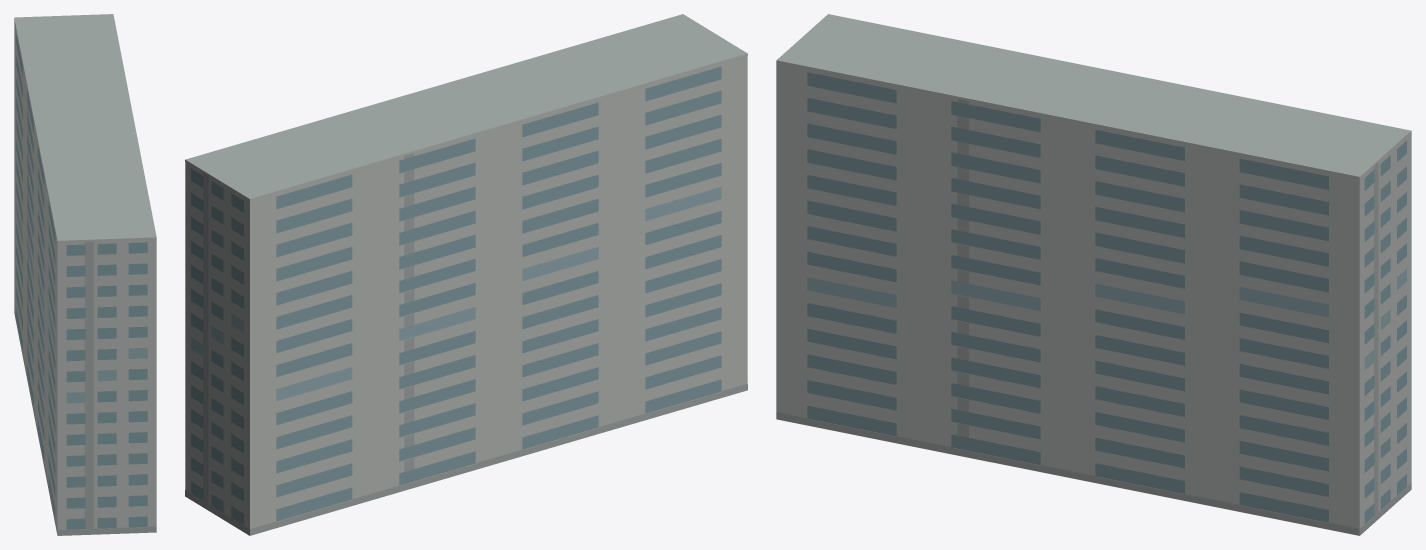
The model's file is residential-54245343-71b1-4c30-a388-e2c5f6ba2fa3.glb.
The picture shows the model from 3 angles, left to right: view 1: azimuth 30°, elevation 25°; view 2: azimuth 150°, elevation 25°; view 3: azimuth 270°, elevation 25°; orthographic projection. The views are drawn at different scales.
Visible parts, largest first — view 1: residential-54245343-71b1-4c30-a388-e2c5f6ba2fa3.tmp; view 2: residential-54245343-71b1-4c30-a388-e2c5f6ba2fa3.tmp; view 3: residential-54245343-71b1-4c30-a388-e2c5f6ba2fa3.tmp.
Boxes of the visible parts, bbox=[...] form: residential-54245343-71b1-4c30-a388-e2c5f6ba2fa3.tmp: bbox=[14, 14, 156, 535]; residential-54245343-71b1-4c30-a388-e2c5f6ba2fa3.tmp: bbox=[185, 14, 747, 535]; residential-54245343-71b1-4c30-a388-e2c5f6ba2fa3.tmp: bbox=[776, 14, 1411, 535].
Size of the model in its own units: 36.01 by 37 by 59.32.
